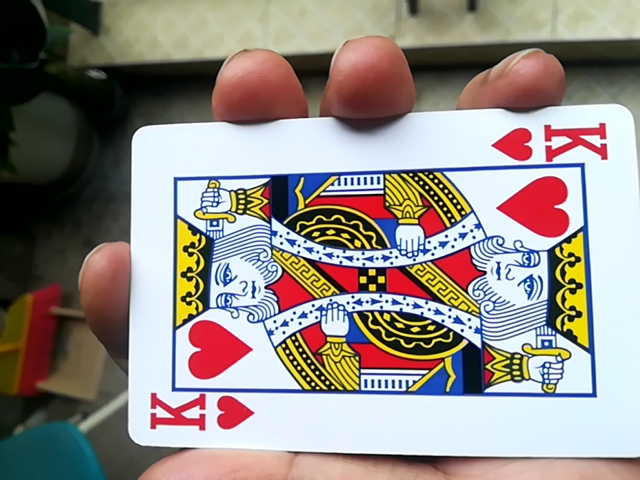hx k: (116, 117, 637, 463)
